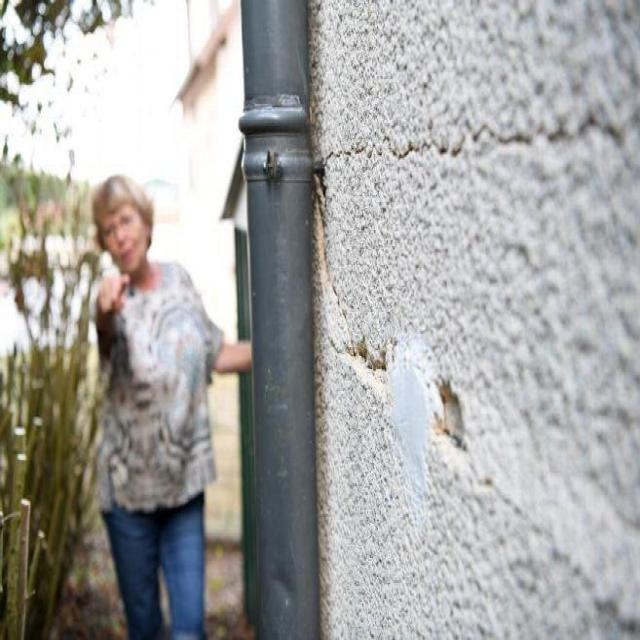crack: (316, 122, 537, 173), (316, 175, 355, 355), (539, 111, 625, 146), (360, 339, 390, 373)
